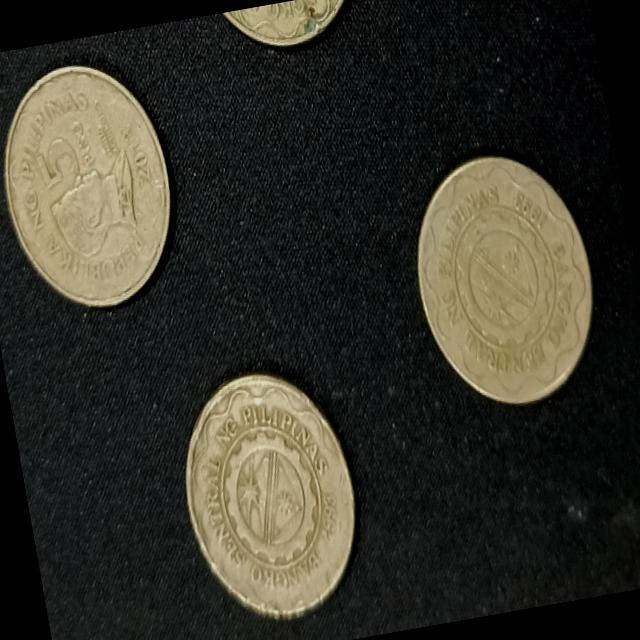5_peso: (417, 157, 591, 402), (186, 375, 354, 614), (4, 66, 169, 305)
